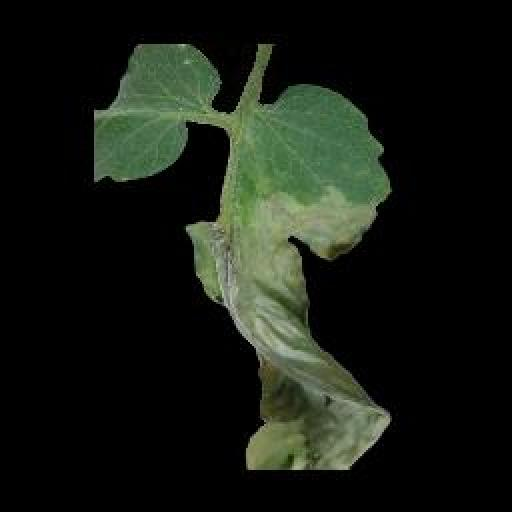Late Blight: (188, 83, 393, 469)
